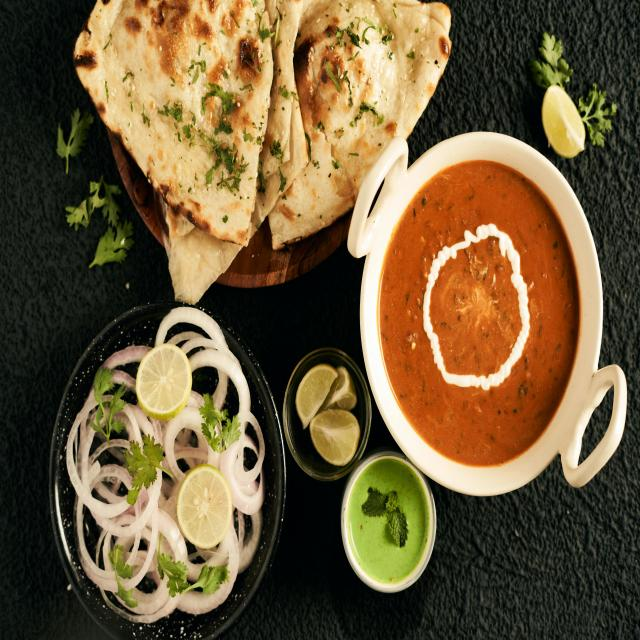Chapati: (79, 0, 452, 296)
Dal: (380, 163, 580, 470)
Salad: (63, 311, 264, 623)
